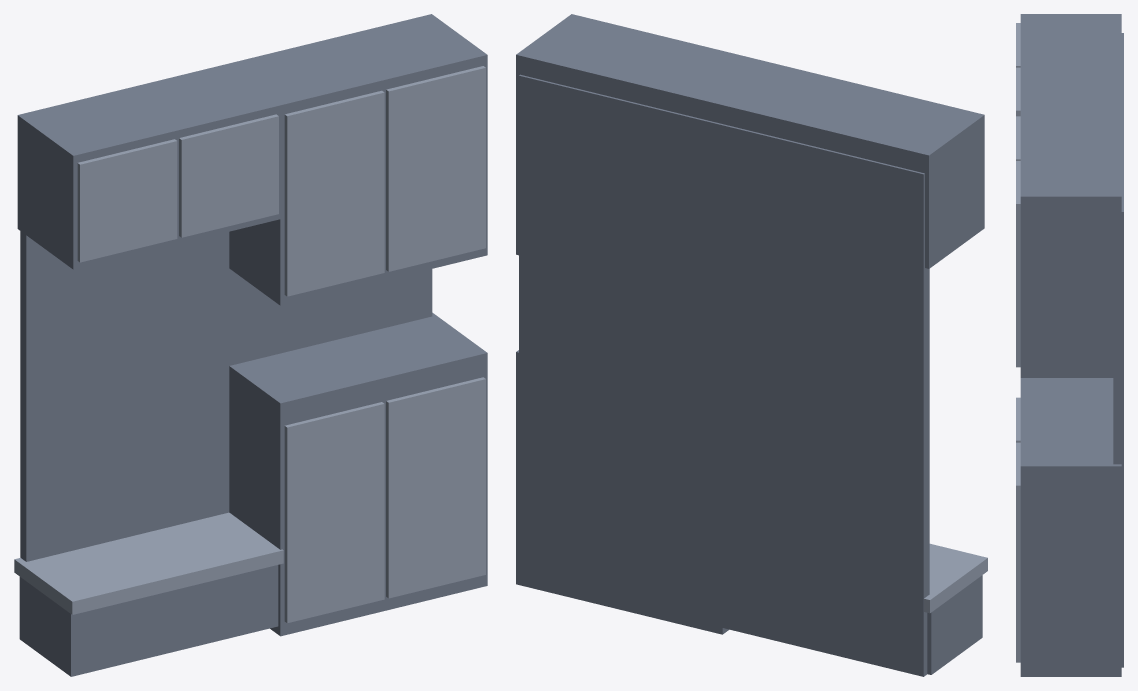
3 renders of one model, left to right at view 1: azimuth 30°, elevation 25°; view 2: azimuth 150°, elevation 25°; view 3: azimuth 270°, elevation 25°, orthographic. The views are drawn at different scales.
Visible parts, largest first — view 1: shoecabinet; view 2: shoecabinet; view 3: shoecabinet.
Part boxes in pixels (<box>): shoecabinet: <box>14,14,487,676</box>; shoecabinet: <box>516,14,987,676</box>; shoecabinet: <box>1016,14,1123,676</box>.
Size of the model in its own units: 1.81 by 2.2 by 0.4493.
